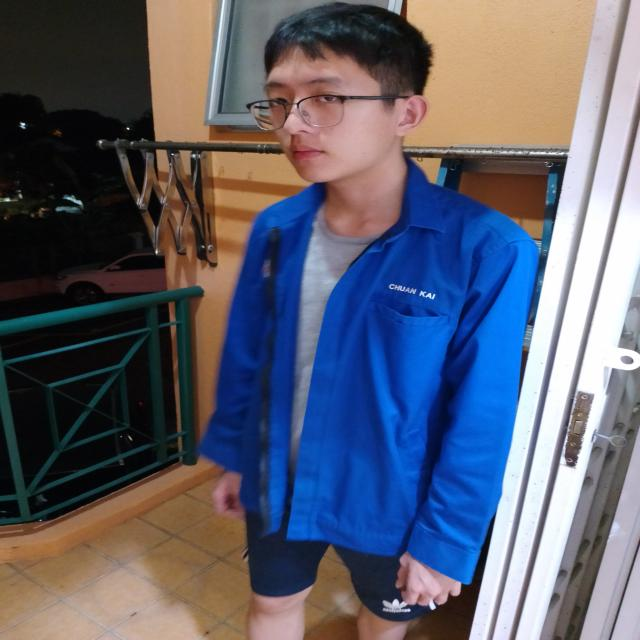person_with_labcoat: (201, 3, 539, 640)
